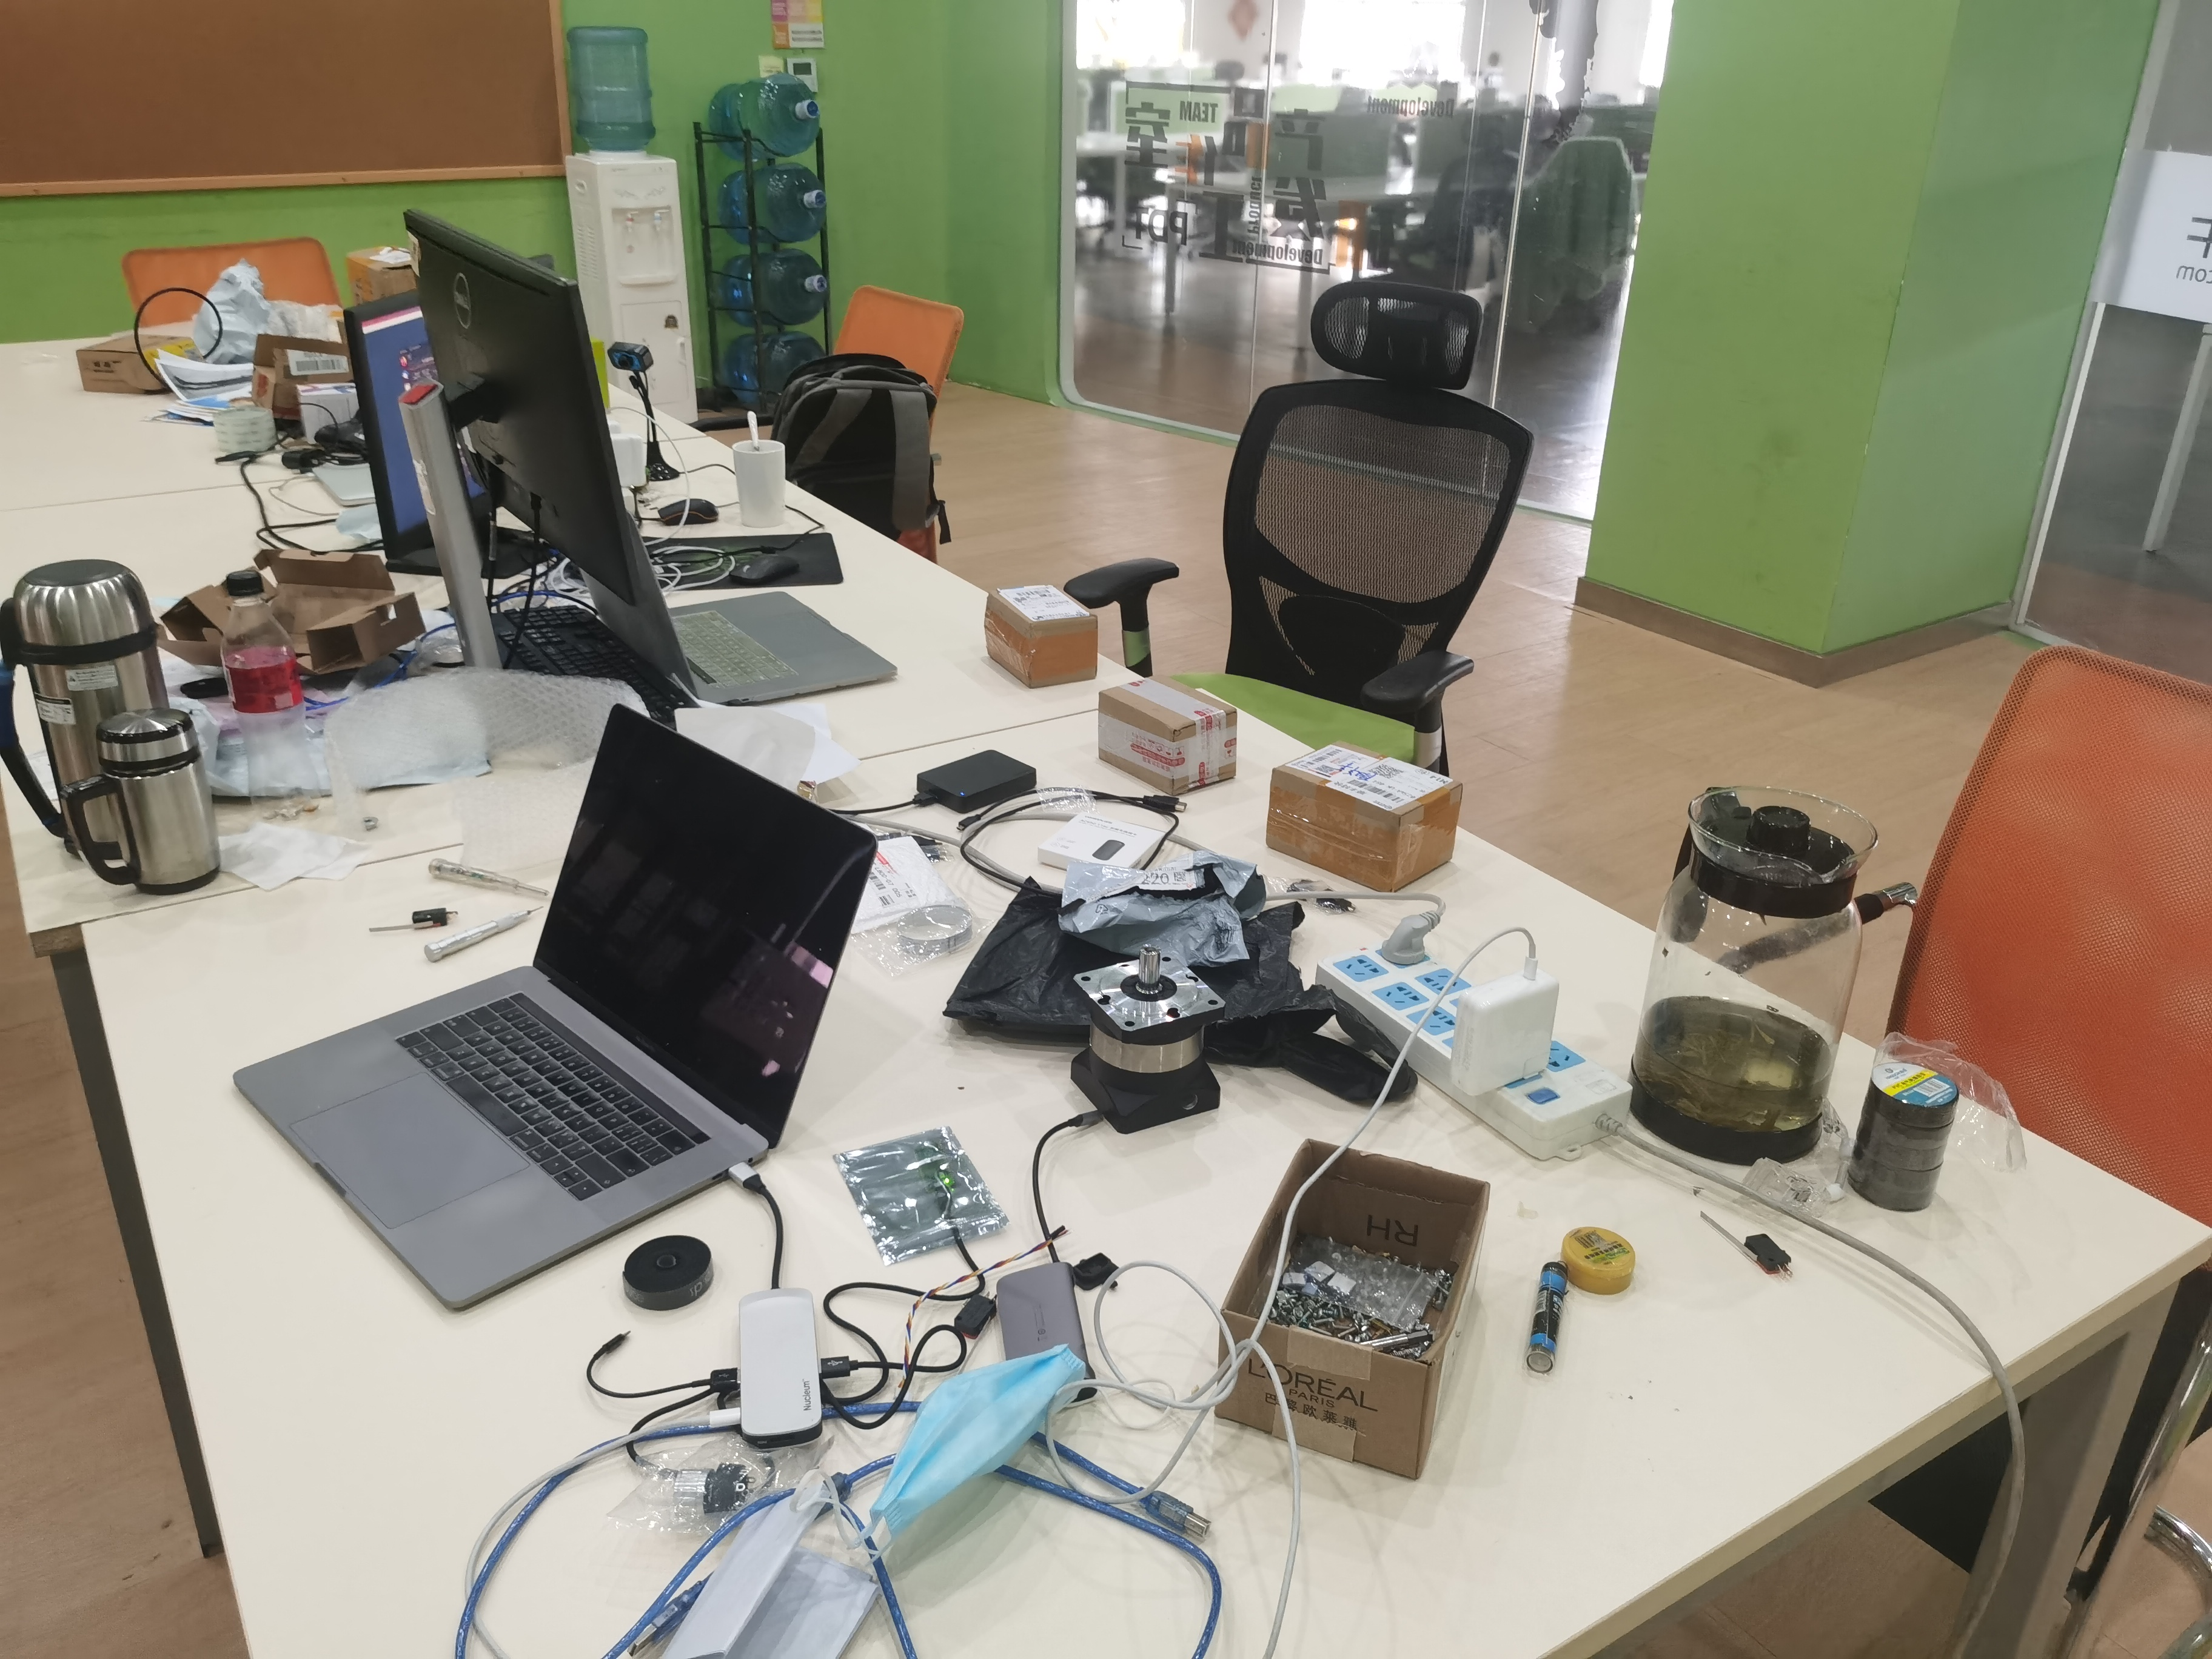box: (1268, 732, 1480, 890), (1092, 673, 1249, 793), (981, 565, 1096, 688)
